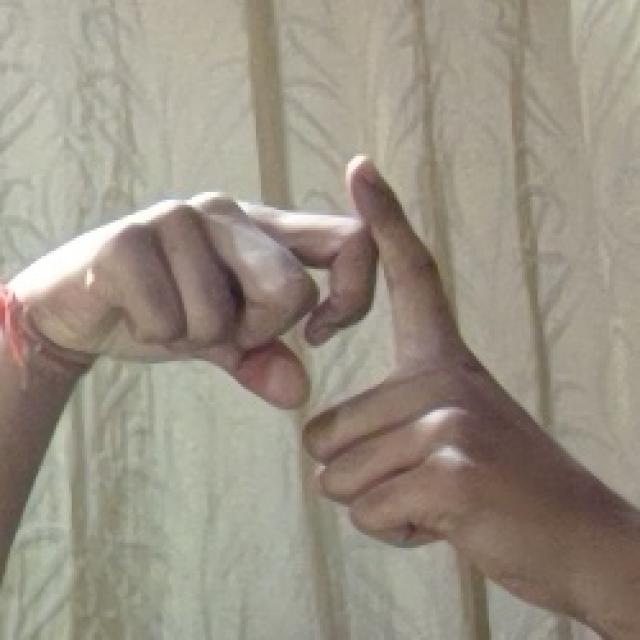Alphabet-K: (29, 148, 626, 626)
